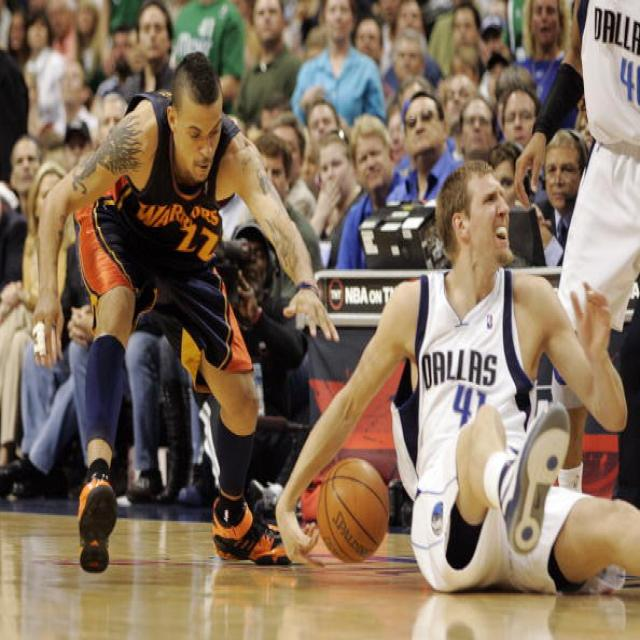10-: (1, 0, 638, 581)
down: (264, 140, 636, 594)
